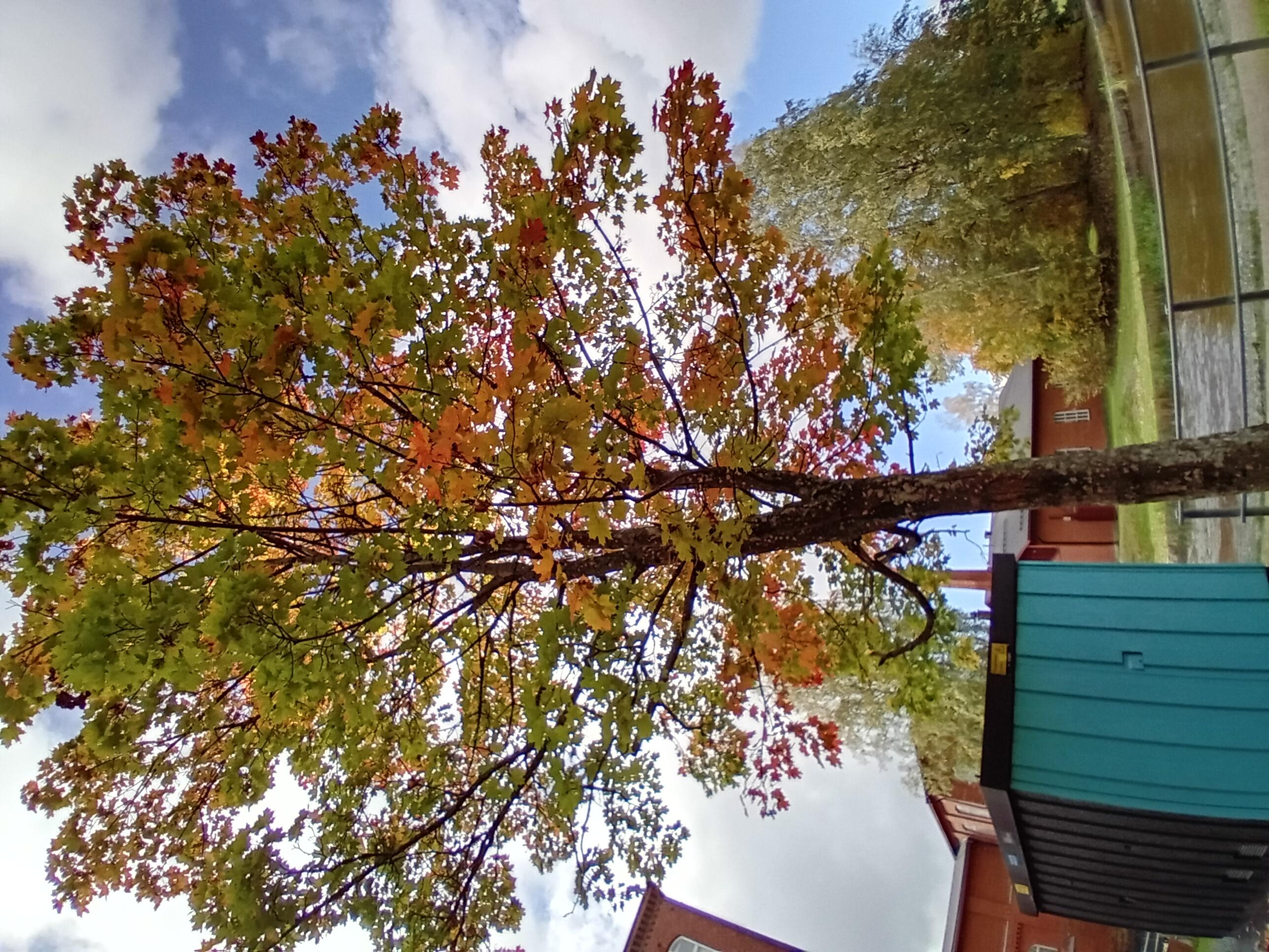Maple: (0, 1, 1194, 952), (21, 0, 1180, 734)
